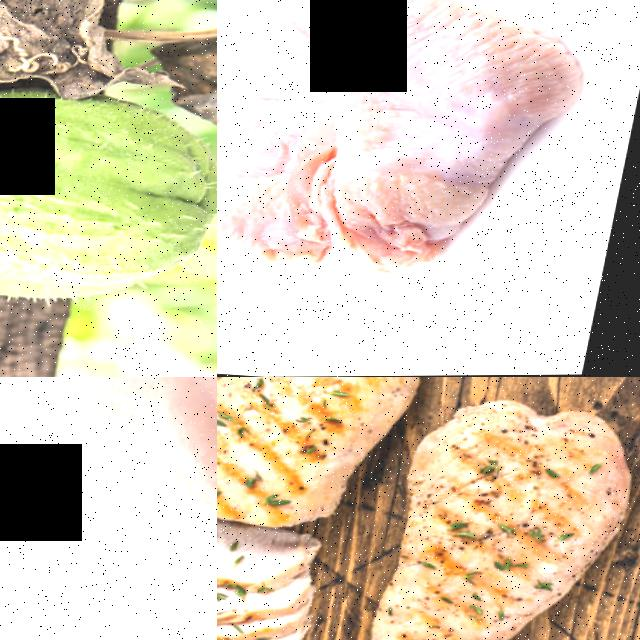chayote: (0, 66, 217, 320)
chicken breast: (0, 377, 217, 583)
chicken wing: (272, 0, 633, 259), (217, 0, 371, 243)
